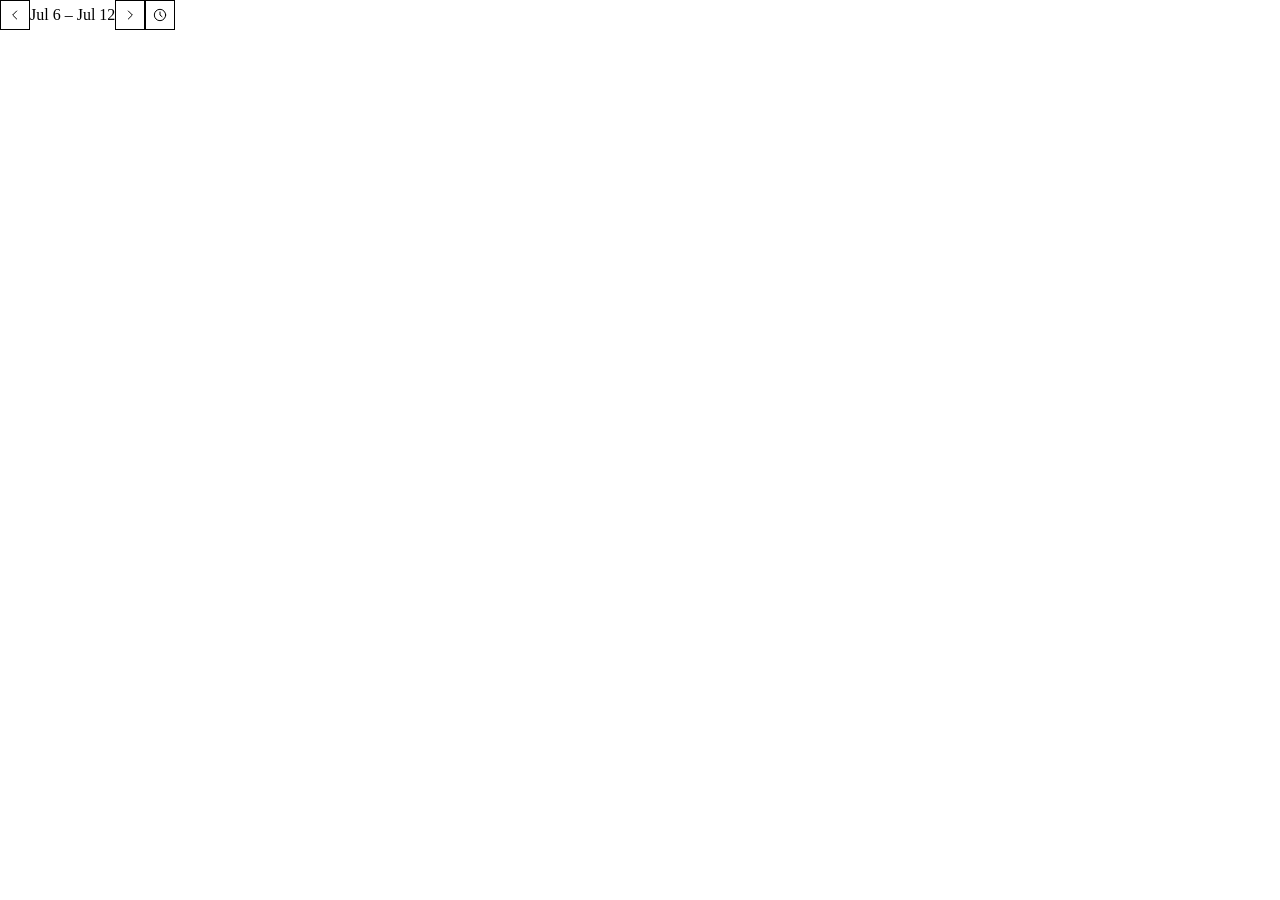
Test: DateTimeRangePicker — popover selection › opens the popover with two month grids
Click the button with aria-label "Selected date range" at coordinates (73, 15), box [30,0,115,30]
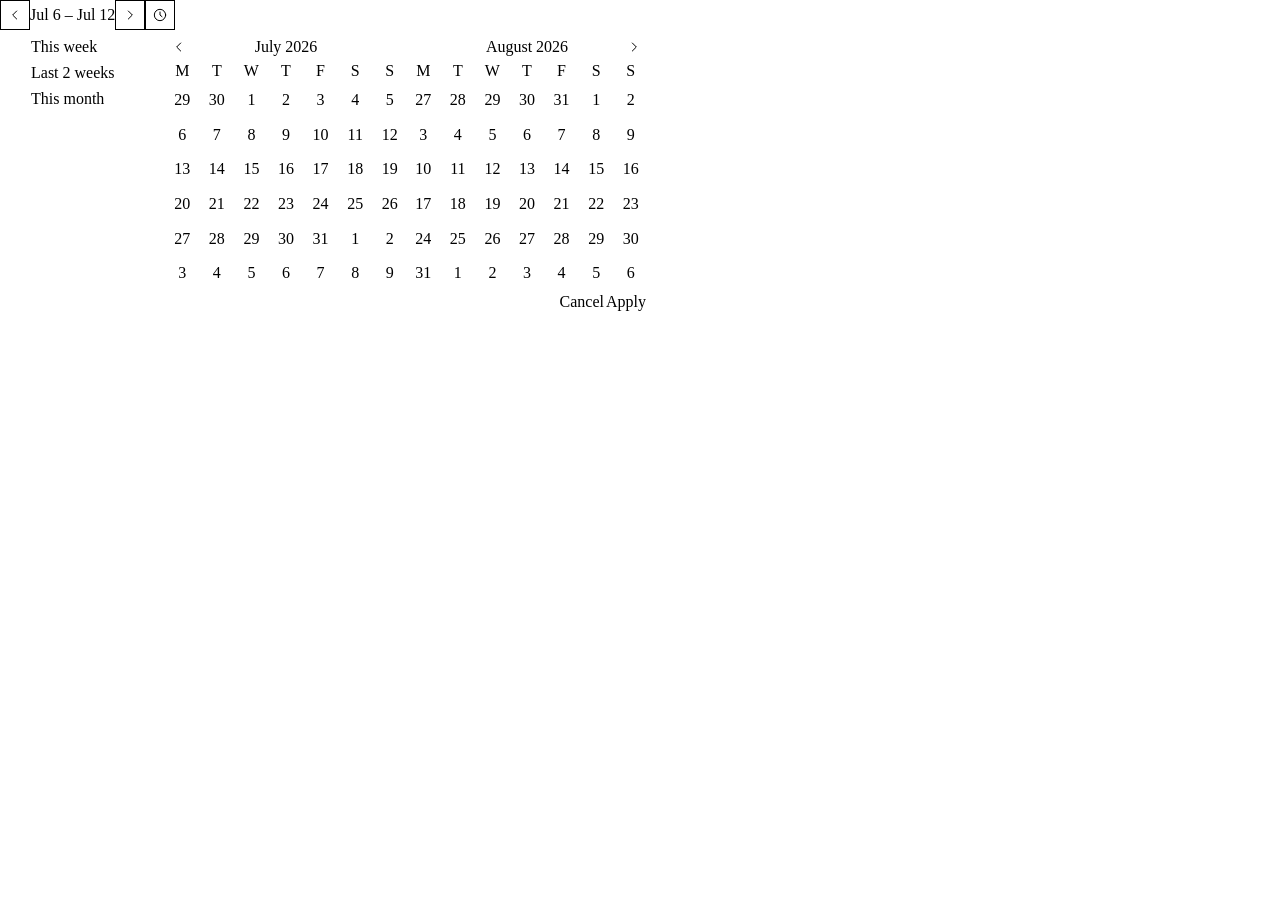
Check: the table named "July 2026" is shown, box [166,60,406,290]
Check: the table named "August 2026" is shown, box [407,60,647,290]
